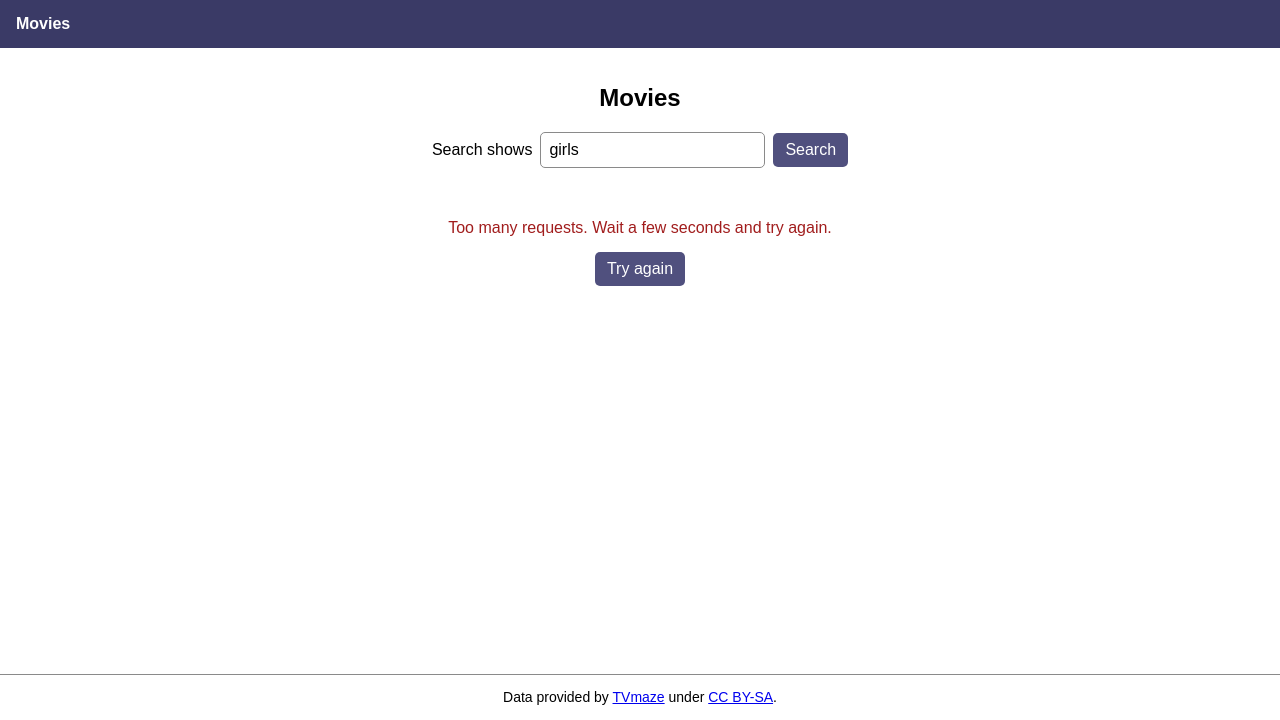
Test: show list › shows an error and recovers on retry
The width and height of the screenshot is (1280, 720).
Check: the message shows "Too many requests", box 448,219 -> 832,236
Click the button "Try again".
click(640, 269)  # box 595,252 -> 685,286
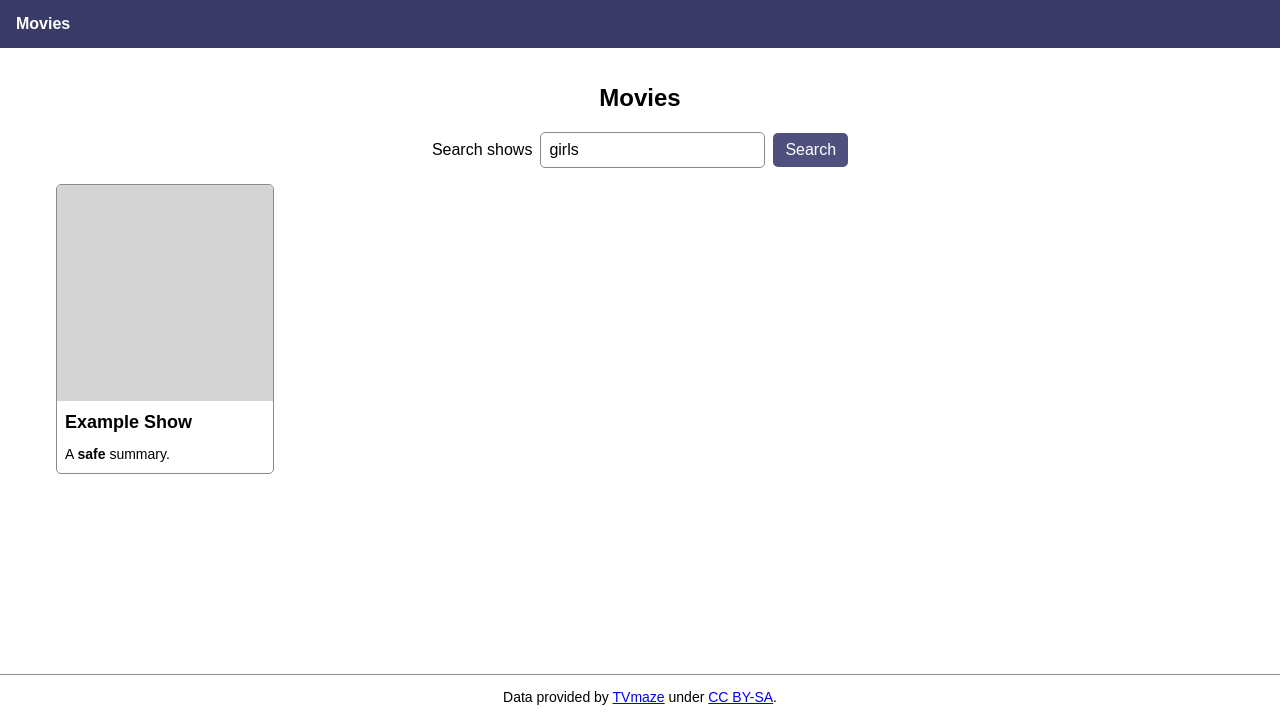
Check: the heading "Example Show" is shown, box 65,412 -> 192,432
